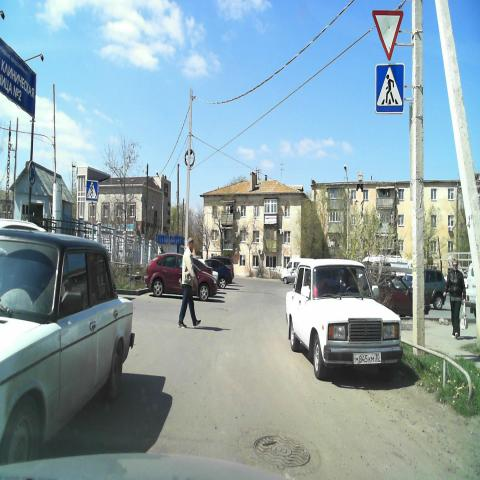2_4: (372, 9, 404, 61)
5_19_1: (375, 62, 405, 114), (85, 180, 98, 201)
